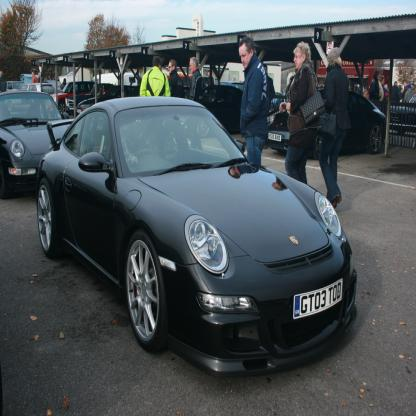Car: (1, 75, 388, 375)
